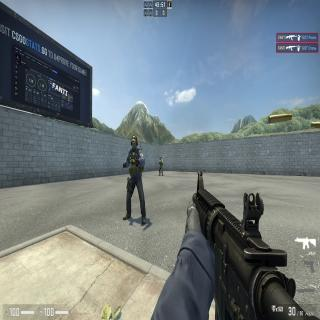CT-Body: (126, 134, 142, 220), (159, 156, 163, 175)
CT-Head: (130, 136, 138, 148), (160, 156, 161, 160)
